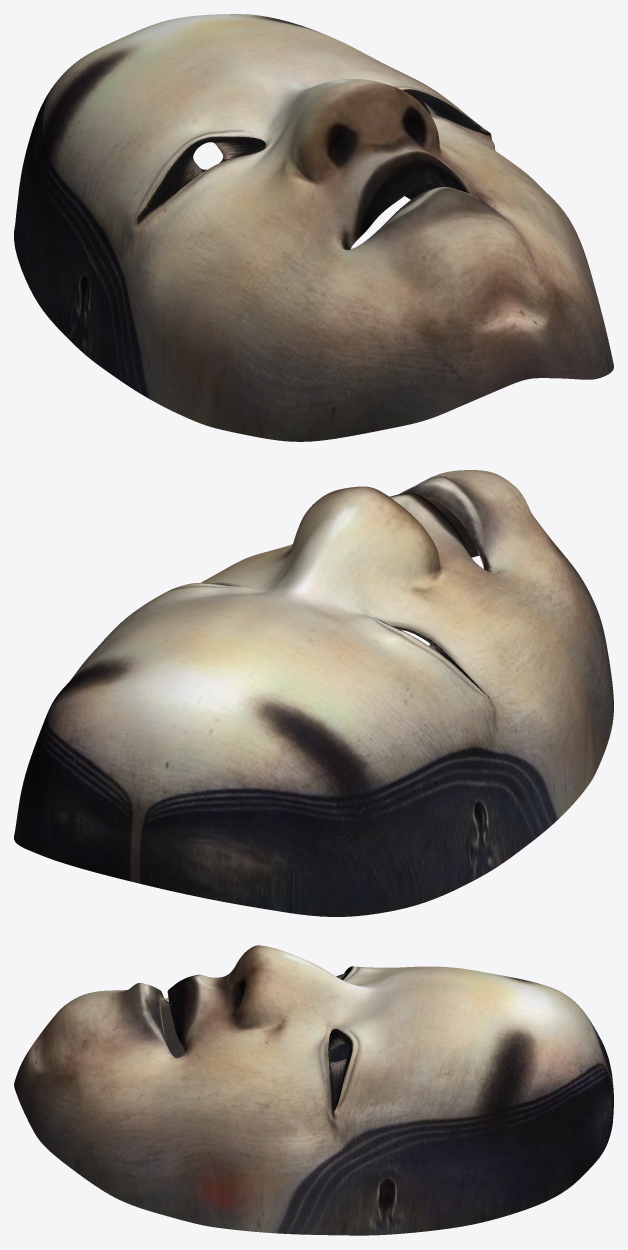
3 views of the same model, one above another, from view 1: azimuth 30°, elevation 25°; view 2: azimuth 150°, elevation 25°; view 3: azimuth 270°, elevation 25° (orthographic). The views are drawn at different scales.
Visible parts, largest first — view 1: Ko-omote_Ko-omote_mat_0; view 2: Ko-omote_Ko-omote_mat_0; view 3: Ko-omote_Ko-omote_mat_0.
Part boxes in pixels (left/top/right/bottom): Ko-omote_Ko-omote_mat_0: left=14, top=14, right=613, bottom=441; Ko-omote_Ko-omote_mat_0: left=14, top=470, right=613, bottom=916; Ko-omote_Ko-omote_mat_0: left=14, top=945, right=613, bottom=1235.
Size of the model in its own units: 329 by 209 by 542.
Materials: 1 (1 with a texture image).
